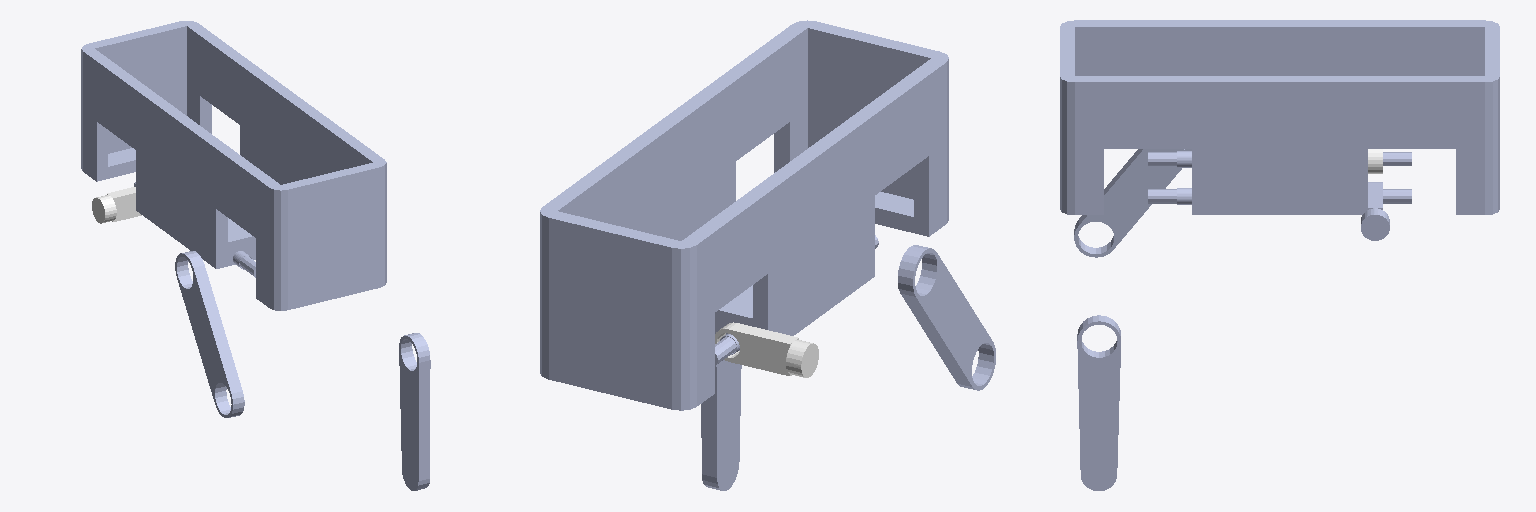
URDF robot description (quadruped_urdf):
<?xml version="1.0" encoding="utf-8"?>
<!-- This URDF was automatically created by SolidWorks to URDF Exporter! Originally created by [author] ([email redacted]) 
     Commit Version: 1.6.0-4-g7f85cfe  Build Version: 1.6.7995.38578
     For more information, please see http://wiki.ros.org/sw_urdf_exporter -->
<robot
  name="quadruped_urdf">
  <link
    name="base_link">
    <inertial>
      <origin
        xyz="8.6736E-19 3.4694E-18 0.042418"
        rpy="0 0 0" />
      <mass
        value="0.86519" />
      <inertia
        ixx="0.0083703"
        ixy="7.9001E-19"
        ixz="-3.6575E-19"
        iyy="0.0020442"
        iyz="-3.6823E-18"
        izz="0.0086656" />
    </inertial>
    <visual>
      <origin
        xyz="0 0 0"
        rpy="0 0 0" />
      <geometry>
        <mesh
          filename="package://quadruped_urdf/meshes/base_link.STL" />
      </geometry>
      <material
        name="">
        <color
          rgba="0.79216 0.81961 0.93333 1" />
      </material>
    </visual>
    <collision>
      <origin
        xyz="0 0 0"
        rpy="0 0 0" />
      <geometry>
        <mesh
          filename="package://quadruped_urdf/meshes/base_link.STL" />
      </geometry>
    </collision>
  </link>
  <link
    name="FLA">
    <inertial>
      <origin
        xyz="-0.026925 -1.7347E-18 0.01"
        rpy="0 0 0" />
      <mass
        value="0.010945" />
      <inertia
        ixx="5.032E-07"
        ixy="-2.2417E-22"
        ixz="2.1072E-22"
        iyy="2.8775E-06"
        iyz="2.918E-23"
        izz="3.0936E-06" />
    </inertial>
    <visual>
      <origin
        xyz="0 0 0"
        rpy="0 0 0" />
      <geometry>
        <mesh
          filename="package://quadruped_urdf/meshes/FLA.STL" />
      </geometry>
      <material
        name="">
        <color
          rgba="0.79216 0.81961 0.93333 1" />
      </material>
    </visual>
    <collision>
      <origin
        xyz="0 0 0"
        rpy="0 0 0" />
      <geometry>
        <mesh
          filename="package://quadruped_urdf/meshes/FLA.STL" />
      </geometry>
    </collision>
  </link>
  <joint
    name="joint_FLA"
    type="revolute">
    <origin
      xyz="0.03 -0.055 0.005"
      rpy="-1.5708 0.0092604 -3.1416" />
    <parent
      link="base_link" />
    <child
      link="FLA" />
    <axis
      xyz="0 0 1" />
    <limit
      lower="-1.57"
      upper="1.57"
      effort="1.47"
      velocity="5.81" />
  </joint>
  <link
    name="FLB">
    <inertial>
      <origin
        xyz="-2.0817E-17 -0.05 0.0061405"
        rpy="0 0 0" />
      <mass
        value="0.027251" />
      <inertia
        ixx="2.2869E-05"
        ixy="-3.8116E-21"
        ixz="-4.4999E-22"
        iyy="2.4912E-06"
        iyz="-1.2214E-20"
        izz="2.4906E-05" />
    </inertial>
    <visual>
      <origin
        xyz="0 0 0"
        rpy="0 0 0" />
      <geometry>
        <mesh
          filename="package://quadruped_urdf/meshes/FLB.STL" />
      </geometry>
      <material
        name="">
        <color
          rgba="0.79216 0.81961 0.93333 1" />
      </material>
    </visual>
    <collision>
      <origin
        xyz="0 0 0"
        rpy="0 0 0" />
      <geometry>
        <mesh
          filename="package://quadruped_urdf/meshes/FLB.STL" />
      </geometry>
    </collision>
  </link>
  <joint
    name="joint_FLB"
    type="revolute">
    <origin
      xyz="-0.038859 0 0.01"
      rpy="-1.5708 0.94955 1.5708" />
    <parent
      link="FLA" />
    <child
      link="FLB" />
    <axis
      xyz="0 0 1" />
    <limit
      lower="-1.57"
      upper="1.57"
      effort="1.47"
      velocity="5.81" />
  </joint>
  <link
    name="FLC">
    <inertial>
      <origin
        xyz="2.77555756156289E-17 -0.0549087751989375 0.00618126895462276"
        rpy="0 0 0" />
      <mass
        value="0.0285799693145388" />
      <inertia
        ixx="2.88211030062495E-05"
        ixy="1.31004729513086E-20"
        ixz="1.00192251695485E-22"
        iyy="2.08850288359585E-06"
        iyz="-3.65613830748438E-21"
        izz="3.04332730679364E-05" />
    </inertial>
    <visual>
      <origin
        xyz="0 0 0"
        rpy="0 0 0" />
      <geometry>
        <mesh
          filename="package://quadruped_urdf/meshes/FLC.STL" />
      </geometry>
      <material
        name="">
        <color
          rgba="0.792156862745098 0.819607843137255 0.933333333333333 1" />
      </material>
    </visual>
    <collision>
      <origin
        xyz="0 0 0"
        rpy="0 0 0" />
      <geometry>
        <mesh
          filename="package://quadruped_urdf/meshes/FLC.STL" />
      </geometry>
    </collision>
  </link>
  <joint
    name="joint_FLC"
    type="revolute">
    <origin
      xyz="0 -0.1 0.0099593"
      rpy="0 0 0.61893" />
    <parent
      link="FLB" />
    <child
      link="FLC" />
    <axis
      xyz="0 0 1" />
    <limit
      lower="-1.57"
      upper="1.57"
      effort="1.47"
      velocity="5.81" />
  </joint>
  <link
    name="FRA">
    <inertial>
      <origin
        xyz="-0.0269253957823772 0 0.01"
        rpy="0 0 0" />
      <mass
        value="0.0109452431127404" />
      <inertia
        ixx="5.03196139245203E-07"
        ixy="-3.88774887899923E-23"
        ixz="9.86921140643361E-23"
        iyy="2.87751254725242E-06"
        iyz="1.66376389752808E-23"
        izz="3.09356821283229E-06" />
    </inertial>
    <visual>
      <origin
        xyz="0 0 0"
        rpy="0 0 0" />
      <geometry>
        <mesh
          filename="package://quadruped_urdf/meshes/FRA.STL" />
      </geometry>
      <material
        name="">
        <color
          rgba="0.792156862745098 0.819607843137255 0.933333333333333 1" />
      </material>
    </visual>
    <collision>
      <origin
        xyz="0 0 0"
        rpy="0 0 0" />
      <geometry>
        <mesh
          filename="package://quadruped_urdf/meshes/FRA.STL" />
      </geometry>
    </collision>
  </link>
  <joint
    name="joint_FRA"
    type="revolute">
    <origin
      xyz="-0.03 -0.055 0.005"
      rpy="1.5708 0.022451 0" />
    <parent
      link="base_link" />
    <child
      link="FRA" />
    <axis
      xyz="0 0 1" />
    <limit
      lower="-1.57"
      upper="1.57"
      effort="1.47"
      velocity="5.81" />
  </joint>
  <link
    name="FRB">
    <inertial>
      <origin
        xyz="1.3878E-17 -0.05 -0.004995"
        rpy="0 0 0" />
      <mass
        value="0.027251" />
      <inertia
        ixx="2.2869E-05"
        ixy="4.7646E-21"
        ixz="2.1176E-22"
        iyy="2.4912E-06"
        iyz="1.1157E-20"
        izz="2.4906E-05" />
    </inertial>
    <visual>
      <origin
        xyz="0 0 0"
        rpy="0 0 0" />
      <geometry>
        <mesh
          filename="package://quadruped_urdf/meshes/FRB.STL" />
      </geometry>
      <material
        name="">
        <color
          rgba="0.79216 0.81961 0.93333 1" />
      </material>
    </visual>
    <collision>
      <origin
        xyz="0 0 0"
        rpy="0 0 0" />
      <geometry>
        <mesh
          filename="package://quadruped_urdf/meshes/FRB.STL" />
      </geometry>
    </collision>
  </link>
  <joint
    name="joint_FRB"
    type="revolute">
    <origin
      xyz="-0.040005 0 0.01"
      rpy="-1.5708 0.9223 -1.5708" />
    <parent
      link="FRA" />
    <child
      link="FRB" />
    <axis
      xyz="0 0 1" />
    <limit
      lower="-1.57"
      upper="1.57"
      effort="1.47"
      velocity="5.81" />
  </joint>
  <link
    name="FRC">
    <inertial>
      <origin
        xyz="0 -0.0549087751989375 -0.00499496037090973"
        rpy="0 0 0" />
      <mass
        value="0.0285799693145388" />
      <inertia
        ixx="2.88211030062496E-05"
        ixy="-1.35525271560688E-20"
        ixz="-7.55215899260914E-22"
        iyy="2.08850288359585E-06"
        iyz="-1.02206436487052E-20"
        izz="3.04332730679364E-05" />
    </inertial>
    <visual>
      <origin
        xyz="0 0 0"
        rpy="0 0 0" />
      <geometry>
        <mesh
          filename="package://quadruped_urdf/meshes/FRC.STL" />
      </geometry>
      <material
        name="">
        <color
          rgba="0.792156862745098 0.819607843137255 0.933333333333333 1" />
      </material>
    </visual>
    <collision>
      <origin
        xyz="0 0 0"
        rpy="0 0 0" />
      <geometry>
        <mesh
          filename="package://quadruped_urdf/meshes/FRC.STL" />
      </geometry>
    </collision>
  </link>
  <joint
    name="joint_FRC"
    type="revolute">
    <origin
      xyz="0 -0.1 -0.01"
      rpy="0 0 0.63392" />
    <parent
      link="FRB" />
    <child
      link="FRC" />
    <axis
      xyz="0 0 1" />
    <limit
      lower="-1.57"
      upper="1.57"
      effort="1.47"
      velocity="5.81" />
  </joint>
  <link
    name="BLA">
    <inertial>
      <origin
        xyz="-0.0269253957823772 8.67361737988404E-19 0.01"
        rpy="0 0 0" />
      <mass
        value="0.0109452431127404" />
      <inertia
        ixx="5.03196139245203E-07"
        ixy="1.81979734761666E-22"
        ixz="-1.24782483443128E-21"
        iyy="2.87751254725242E-06"
        iyz="-1.69924567701513E-23"
        izz="3.09356821283229E-06" />
    </inertial>
    <visual>
      <origin
        xyz="0 0 0"
        rpy="0 0 0" />
      <geometry>
        <mesh
          filename="package://quadruped_urdf/meshes/BLA.STL" />
      </geometry>
      <material
        name="">
        <color
          rgba="0.792156862745098 0.819607843137255 0.933333333333333 1" />
      </material>
    </visual>
    <collision>
      <origin
        xyz="0 0 0"
        rpy="0 0 0" />
      <geometry>
        <mesh
          filename="package://quadruped_urdf/meshes/BLA.STL" />
      </geometry>
    </collision>
  </link>
  <joint
    name="joint_BLA"
    type="revolute">
    <origin
      xyz="0.03 0.055 0.005"
      rpy="1.5708 -0.0079223 3.1416" />
    <parent
      link="base_link" />
    <child
      link="BLA" />
    <axis
      xyz="0 0 1" />
    <limit
      lower="-1.57"
      upper="1.57"
      effort="1.47"
      velocity="5.81" />
  </joint>
  <link
    name="BLB">
    <inertial>
      <origin
        xyz="0 -0.05 0.00499937237932946"
        rpy="0 0 0" />
      <mass
        value="0.0272511064281089" />
      <inertia
        ixx="2.28689712470884E-05"
        ixy="1.37642853928824E-21"
        ixz="-9.26442286059391E-22"
        iyy="2.49120517681613E-06"
        iyz="6.14264322881878E-21"
        izz="2.49059913167694E-05" />
    </inertial>
    <visual>
      <origin
        xyz="0 0 0"
        rpy="0 0 0" />
      <geometry>
        <mesh
          filename="package://quadruped_urdf/meshes/BLB.STL" />
      </geometry>
      <material
        name="">
        <color
          rgba="0.792156862745098 0.819607843137255 0.933333333333333 1" />
      </material>
    </visual>
    <collision>
      <origin
        xyz="0 0 0"
        rpy="0 0 0" />
      <geometry>
        <mesh
          filename="package://quadruped_urdf/meshes/BLB.STL" />
      </geometry>
    </collision>
  </link>
  <joint
    name="joint_BLB"
    type="revolute">
    <origin
      xyz="-0.040001 0 0.01"
      rpy="-1.5708 -0.9058 1.5708" />
    <parent
      link="BLA" />
    <child
      link="BLB" />
    <axis
      xyz="0 0 1" />
    <limit
      lower="-1.57"
      upper="1.57"
      effort="1.47"
      velocity="5.81" />
  </joint>
  <link
    name="BLC">
    <inertial>
      <origin
        xyz="-5.55111512312578E-17 -0.054908775198938 0.00499937237932949"
        rpy="0 0 0" />
      <mass
        value="0.0285799693145388" />
      <inertia
        ixx="2.88211030062496E-05"
        ixy="-2.08747299383882E-20"
        ixz="4.58051264201239E-22"
        iyy="2.08850288359585E-06"
        iyz="-3.22765875018191E-21"
        izz="3.04332730679365E-05" />
    </inertial>
    <visual>
      <origin
        xyz="0 0 0"
        rpy="0 0 0" />
      <geometry>
        <mesh
          filename="package://quadruped_urdf/meshes/BLC.STL" />
      </geometry>
      <material
        name="">
        <color
          rgba="0.792156862745098 0.819607843137255 0.933333333333333 1" />
      </material>
    </visual>
    <collision>
      <origin
        xyz="0 0 0"
        rpy="0 0 0" />
      <geometry>
        <mesh
          filename="package://quadruped_urdf/meshes/BLC.STL" />
      </geometry>
    </collision>
  </link>
  <joint
    name="joint_BLC"
    type="revolute">
    <origin
      xyz="0 -0.1 0.01"
      rpy="0 0 -0.65676" />
    <parent
      link="BLB" />
    <child
      link="BLC" />
    <axis
      xyz="0 0 1" />
    <limit
      lower="-1.57"
      upper="1.57"
      effort="1.47"
      velocity="5.81" />
  </joint>
  <link
    name="BRA">
    <inertial>
      <origin
        xyz="0 0 0"
        rpy="0 0 0" />
      <mass
        value="0" />
      <inertia
        ixx="0"
        ixy="0"
        ixz="0"
        iyy="0"
        iyz="0"
        izz="0" />
    </inertial>
    <visual>
      <origin
        xyz="0 0 0"
        rpy="0 0 0" />
      <geometry>
        <mesh
          filename="package://quadruped_urdf/meshes/BRA.STL" />
      </geometry>
      <material
        name="">
        <color
          rgba="1 1 1 1" />
      </material>
    </visual>
    <collision>
      <origin
        xyz="0 0 0"
        rpy="0 0 0" />
      <geometry>
        <mesh
          filename="package://quadruped_urdf/meshes/BRA.STL" />
      </geometry>
    </collision>
  </link>
  <joint
    name="joint_BRA"
    type="revolute">
    <origin
      xyz="-0.03 0.055 0.005"
      rpy="-1.5708 0.0046431 0" />
    <parent
      link="base_link" />
    <child
      link="BRA" />
    <axis
      xyz="0 0 1" />
    <limit
      lower="-1.57"
      upper="1.57"
      effort="1.47"
      velocity="5.81" />
  </joint>
  <link
    name="BRB">
    <inertial>
      <origin
        xyz="1.3878E-17 -0.05 -0.0049998"
        rpy="0 0 0" />
      <mass
        value="0.027251" />
      <inertia
        ixx="2.2869E-05"
        ixy="3.494E-21"
        ixz="0"
        iyy="2.4912E-06"
        iyz="-1.0163E-20"
        izz="2.4906E-05" />
    </inertial>
    <visual>
      <origin
        xyz="0 0 0"
        rpy="0 0 0" />
      <geometry>
        <mesh
          filename="package://quadruped_urdf/meshes/BRB.STL" />
      </geometry>
      <material
        name="">
        <color
          rgba="0.79216 0.81961 0.93333 1" />
      </material>
    </visual>
    <collision>
      <origin
        xyz="0 0 0"
        rpy="0 0 0" />
      <geometry>
        <mesh
          filename="package://quadruped_urdf/meshes/BRB.STL" />
      </geometry>
    </collision>
  </link>
  <joint
    name="joint_BRB"
    type="revolute">
    <origin
      xyz="-0.04 0 0.01"
      rpy="-1.5708 -0.89897 -1.5708" />
    <parent
      link="BRA" />
    <child
      link="BRB" />
    <axis
      xyz="0 0 1" />
    <limit
      lower="-1.57"
      upper="1.57"
      effort="1.47"
      velocity="5.81" />
  </joint>
  <link
    name="BRC">
    <inertial>
      <origin
        xyz="-2.7756E-17 -0.054909 -0.0049998"
        rpy="0 0 0" />
      <mass
        value="0.02858" />
      <inertia
        ixx="2.8821E-05"
        ixy="-3.7875E-20"
        ixz="-3.0626E-22"
        iyy="2.0885E-06"
        iyz="-1.4964E-20"
        izz="3.0433E-05" />
    </inertial>
    <visual>
      <origin
        xyz="0 0 0"
        rpy="0 0 0" />
      <geometry>
        <mesh
          filename="package://quadruped_urdf/meshes/BRC.STL" />
      </geometry>
      <material
        name="">
        <color
          rgba="0.79216 0.81961 0.93333 1" />
      </material>
    </visual>
    <collision>
      <origin
        xyz="0 0 0"
        rpy="0 0 0" />
      <geometry>
        <mesh
          filename="package://quadruped_urdf/meshes/BRC.STL" />
      </geometry>
    </collision>
  </link>
  <joint
    name="joint_BRC"
    type="revolute">
    <origin
      xyz="0 -0.1 -0.01"
      rpy="0 0 -0.68889" />
    <parent
      link="BRB" />
    <child
      link="BRC" />
    <axis
      xyz="0 0 1" />
    <limit
      lower="-1.57"
      upper="1.57"
      effort="1.47"
      velocity="5.81" />
  </joint>
</robot>

--- Render facts (derived) ---
The picture shows the robot from 3 angles, left to right: view 1: azimuth 30°, elevation 25°; view 2: azimuth 150°, elevation 25°; view 3: azimuth 270°, elevation 25°; orthographic projection.
Robot: quadruped_urdf — 13 links, 12 joints (12 revolute); root link base_link; default pose: every joint at zero.
Visible links, largest first — view 1: base_link, FRB, FLC, BRA; view 2: base_link, FRB, FLC, BRA; view 3: base_link, FLC, FRB, BLA.
Link boxes in pixels (x1,y1,x2,y2): base_link: (81,21,386,310); FRB: (175,251,244,417); FLC: (399,333,430,490); BRA: (92,187,141,223); base_link: (540,20,948,410); FRB: (898,245,995,390); FLC: (701,350,741,490); BRA: (715,322,818,377); base_link: (1060,20,1499,214); FLC: (1077,315,1120,490); FRB: (1074,149,1191,257); BLA: (1361,182,1389,240).
Size in the robot's own frame: 0.1739 by 0.3 by 0.2883 metres.
Meshes: 13 distinct files referenced, 5 mesh visuals loaded (5 binary STL); not drawn: 8 (file found but could not be loaded).